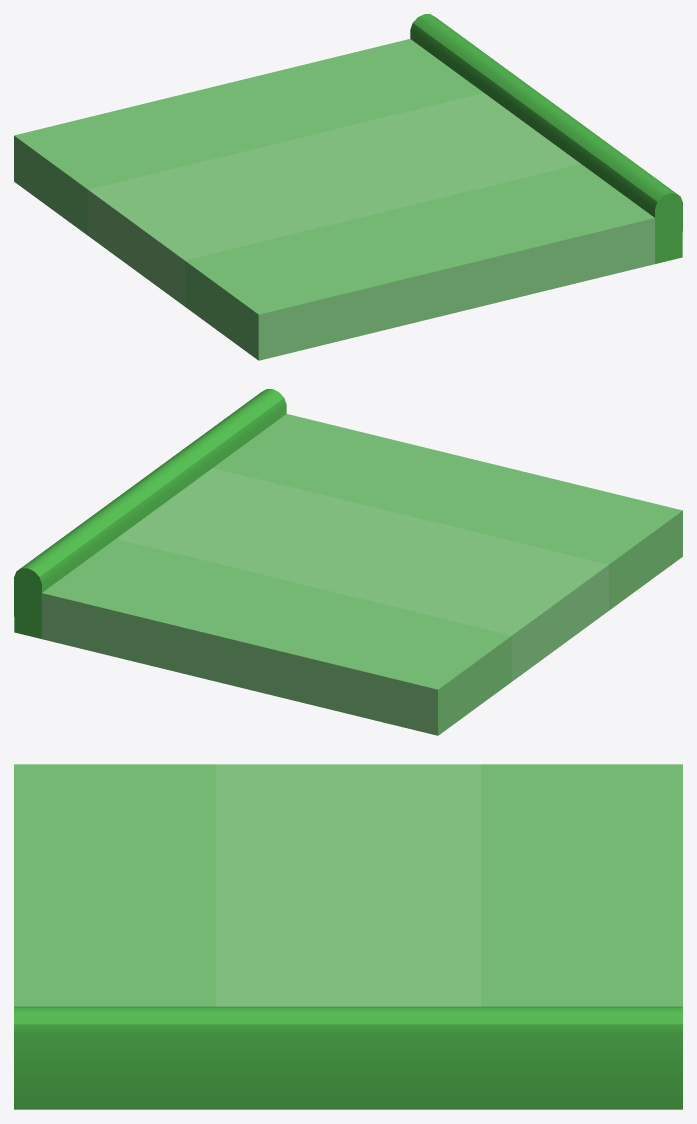
The model's file is Platform A Side.fbx.
3 views of the same model, one above another, from view 1: azimuth 30°, elevation 25°; view 2: azimuth 150°, elevation 25°; view 3: azimuth 270°, elevation 25° (orthographic). The views are drawn at different scales.
Parts seen in each view (by area): view 1: Platform A Side; view 2: Platform A Side; view 3: Platform A Side.
Boxes of the visible parts, box(x1,y1,x2,y2) form: Platform A Side: box(14, 14, 682, 360); Platform A Side: box(14, 389, 682, 735); Platform A Side: box(14, 764, 682, 1109).
Bounding box in the file's own units: 552 × 83.93 × 552.
